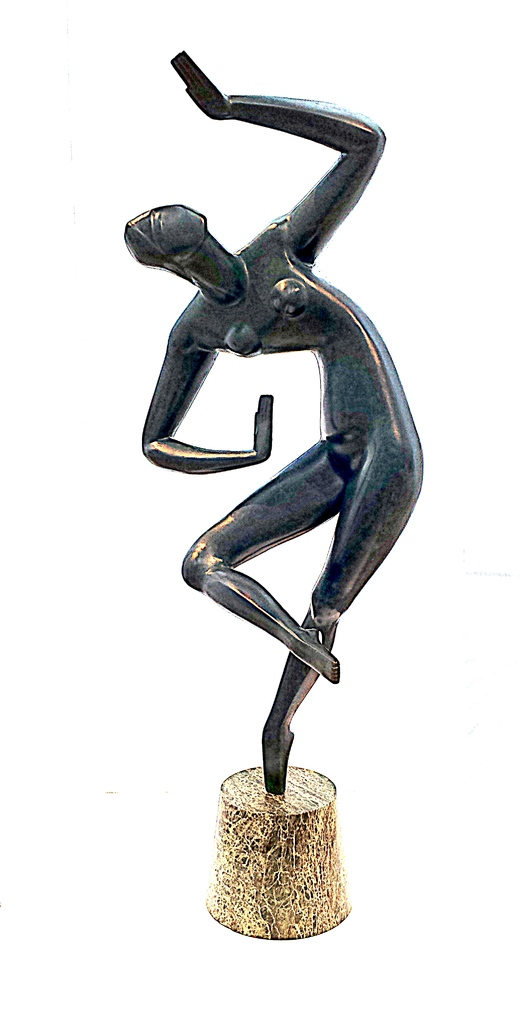Human_hand: (168, 51, 226, 118), (250, 389, 275, 461)
